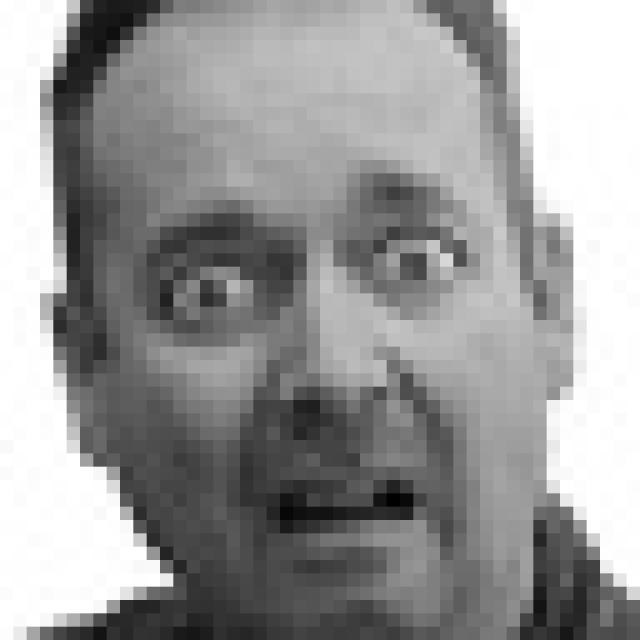fear: (132, 164, 495, 608)
